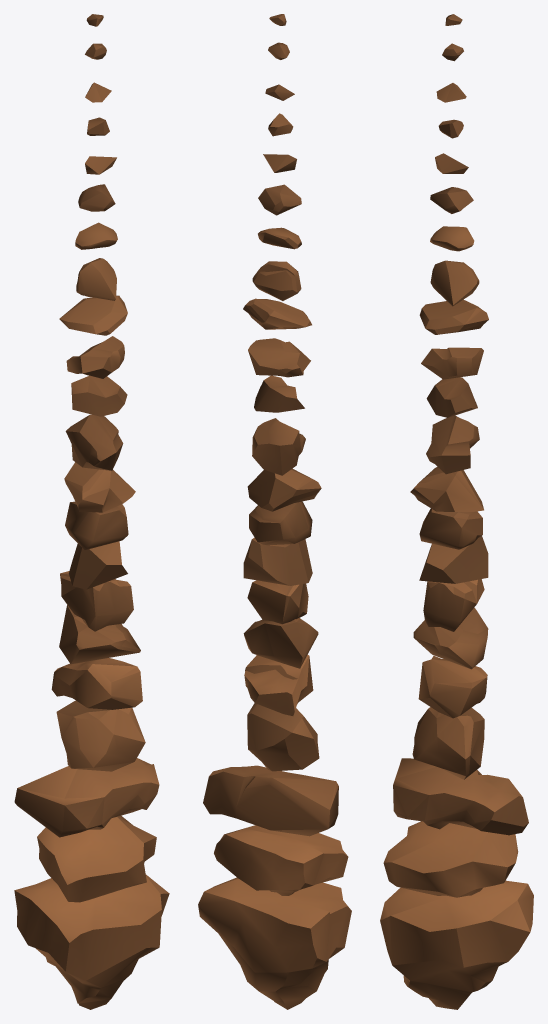
Rendered from RockSet.fbx.
The picture shows the model from 3 angles, left to right: view 1: azimuth 30°, elevation 25°; view 2: azimuth 150°, elevation 25°; view 3: azimuth 330°, elevation 25°; orthographic projection.
Visible parts, largest first — view 1: SpRockMeshV_geo, SpRockMeshT_geo, SpRockMeshU_geo, SpRockMeshS_geo, SpRockMeshR_geo, SpRockMeshP_geo, SpRockMeshQ_geo, SpRockMeshL_geo, SpRockMeshM_geo, SpRockMeshN_geo, SpRockMeshO_geo, SpRockMeshI_geo (+6 smaller); view 2: SpRockMeshV_geo, SpRockMeshT_geo, SpRockMeshU_geo, SpRockMeshS_geo, SpRockMeshR_geo, SpRockMeshO_geo, SpRockMeshQ_geo, SpRockMeshL_geo, SpRockMeshN_geo, SpRockMeshM_geo, SpRockMeshP_geo, SpRockMeshJ_geo (+7 smaller); view 3: SpRockMeshV_geo, SpRockMeshU_geo, SpRockMeshT_geo, SpRockMeshS_geo, SpRockMeshR_geo, SpRockMeshQ_geo, SpRockMeshO_geo, SpRockMeshP_geo, SpRockMeshM_geo, SpRockMeshL_geo, SpRockMeshN_geo, SpRockMeshI_geo (+7 smaller).
Boxes of the visible parts, x1=… form: SpRockMeshV_geo: x1=14, y1=874, x2=169, y2=1009; SpRockMeshT_geo: x1=14, y1=758, x2=159, y2=837; SpRockMeshU_geo: x1=37, y1=815, x2=156, y2=902; SpRockMeshS_geo: x1=56, y1=700, x2=145, y2=771; SpRockMeshR_geo: x1=51, y1=658, x2=142, y2=709; SpRockMeshP_geo: x1=60, y1=571, x2=133, y2=631; SpRockMeshQ_geo: x1=59, y1=605, x2=140, y2=664; SpRockMeshL_geo: x1=65, y1=414, x2=123, y2=470; SpRockMeshM_geo: x1=64, y1=462, x2=135, y2=512; SpRockMeshN_geo: x1=65, y1=501, x2=128, y2=549; SpRockMeshO_geo: x1=69, y1=541, x2=127, y2=589; SpRockMeshI_geo: x1=59, y1=295, x2=127, y2=335; SpRockMeshV_geo: x1=198, y1=877, x2=351, y2=1009; SpRockMeshT_geo: x1=203, y1=765, x2=338, y2=836; SpRockMeshU_geo: x1=214, y1=825, x2=348, y2=895; SpRockMeshS_geo: x1=247, y1=703, x2=319, y2=771; SpRockMeshR_geo: x1=244, y1=654, x2=313, y2=715; SpRockMeshO_geo: x1=243, y1=537, x2=312, y2=585; SpRockMeshQ_geo: x1=243, y1=618, x2=318, y2=668; SpRockMeshL_geo: x1=252, y1=418, x2=305, y2=475; SpRockMeshN_geo: x1=249, y1=501, x2=312, y2=545; SpRockMeshM_geo: x1=247, y1=468, x2=321, y2=511; SpRockMeshP_geo: x1=247, y1=580, x2=308, y2=624; SpRockMeshJ_geo: x1=248, y1=338, x2=310, y2=377; SpRockMeshV_geo: x1=380, y1=880, x2=533, y2=1009; SpRockMeshU_geo: x1=383, y1=821, x2=518, y2=897; SpRockMeshT_geo: x1=393, y1=758, x2=528, y2=835; SpRockMeshS_geo: x1=412, y1=707, x2=484, y2=779; SpRockMeshR_geo: x1=418, y1=655, x2=487, y2=718; SpRockMeshQ_geo: x1=413, y1=607, x2=488, y2=669; SpRockMeshO_geo: x1=419, y1=536, x2=488, y2=583; SpRockMeshP_geo: x1=423, y1=579, x2=484, y2=631; SpRockMeshM_geo: x1=410, y1=467, x2=483, y2=511; SpRockMeshL_geo: x1=426, y1=415, x2=479, y2=474; SpRockMeshN_geo: x1=419, y1=508, x2=482, y2=549; SpRockMeshI_geo: x1=419, y1=299, x2=488, y2=334.
Bounding box in the file's own units: 17.1 × 114 × 12.69.
